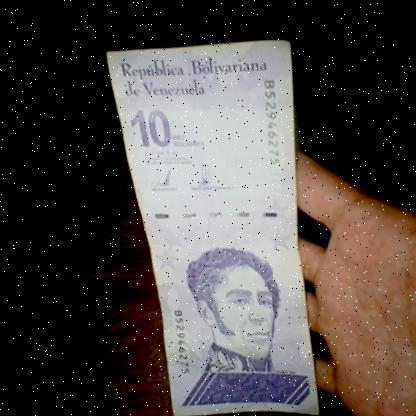ten-front-vef: (76, 6, 385, 416)
